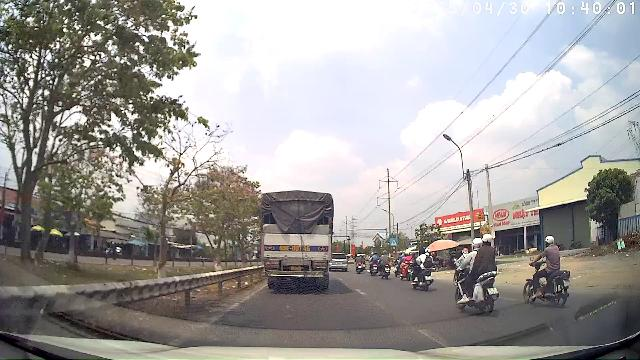423a-duong-nguoi-di-bo-sang-ngang-1: (390, 238, 398, 246)
